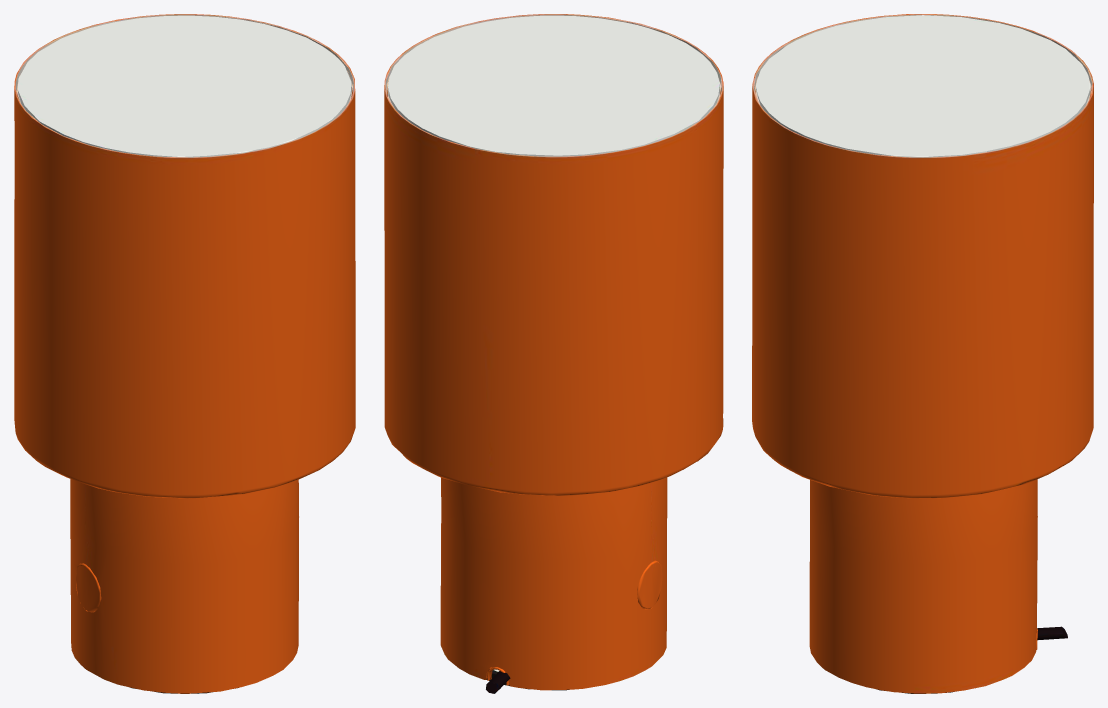
3 renders of one model, left to right at view 1: azimuth 30°, elevation 25°; view 2: azimuth 150°, elevation 25°; view 3: azimuth 270°, elevation 25°, orthographic.
Visible parts, largest first — view 1: ASY_ART_10643317_S01_NV01; view 2: ASY_ART_10643317_S01_NV01; view 3: ASY_ART_10643317_S01_NV01.
Part boxes in pixels (left/top/right/bottom): ASY_ART_10643317_S01_NV01: left=14, top=14, right=355, bottom=693; ASY_ART_10643317_S01_NV01: left=384, top=14, right=723, bottom=693; ASY_ART_10643317_S01_NV01: left=752, top=14, right=1093, bottom=693.
Bounding box in the file's own units: 0.1201 × 0.2186 × 0.1201.
1 material, 1 textured.
